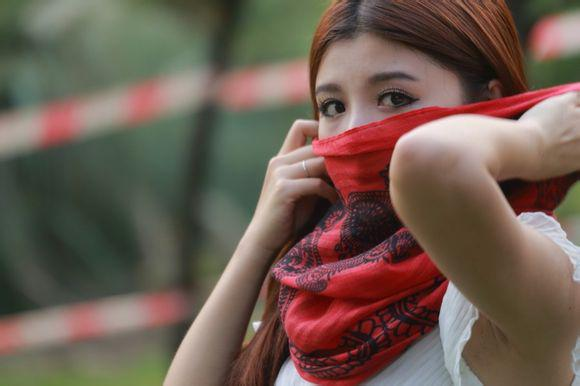OK: (307, 71, 436, 200)
